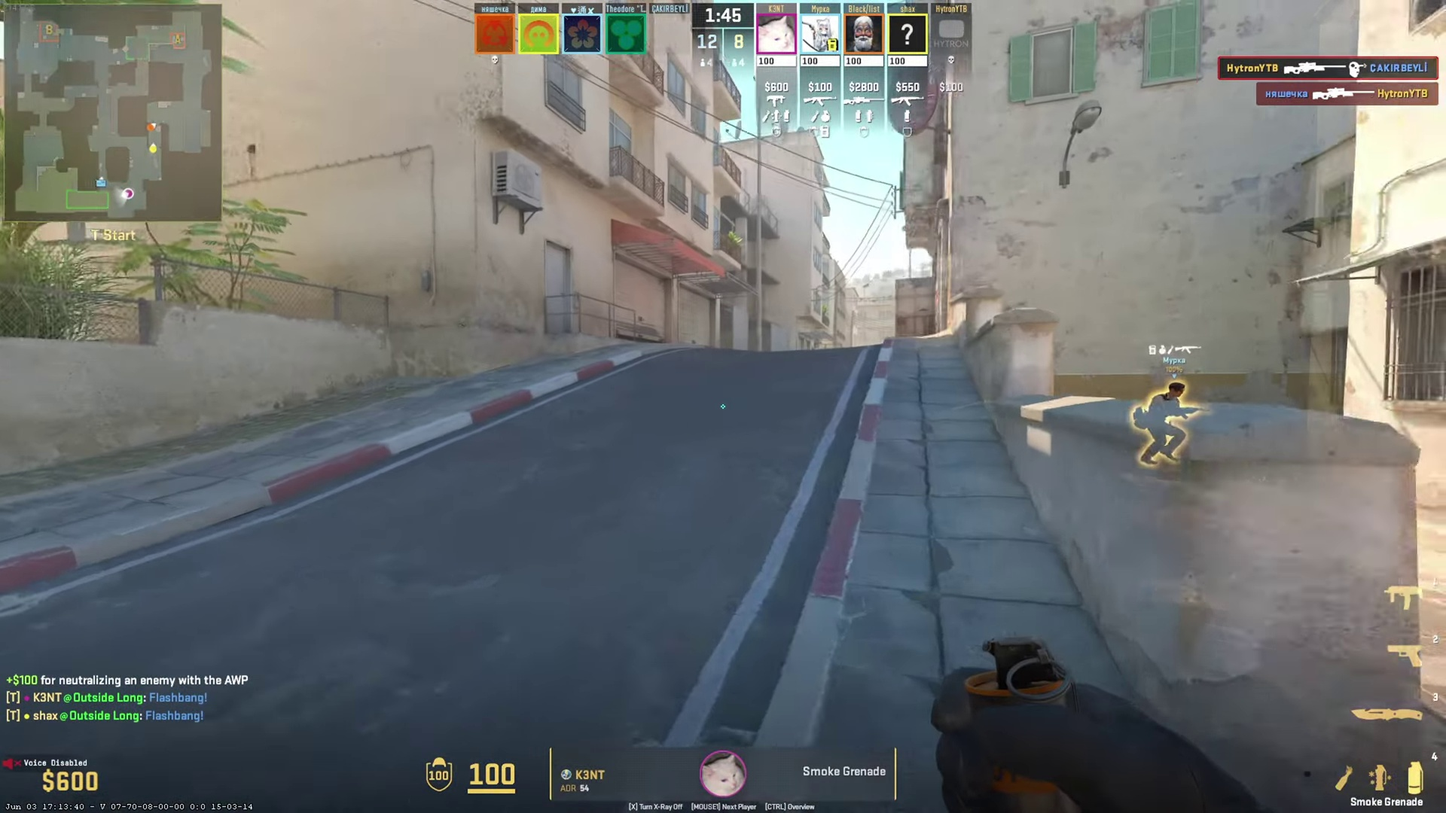Terrorist: (1159, 382, 1185, 401)
